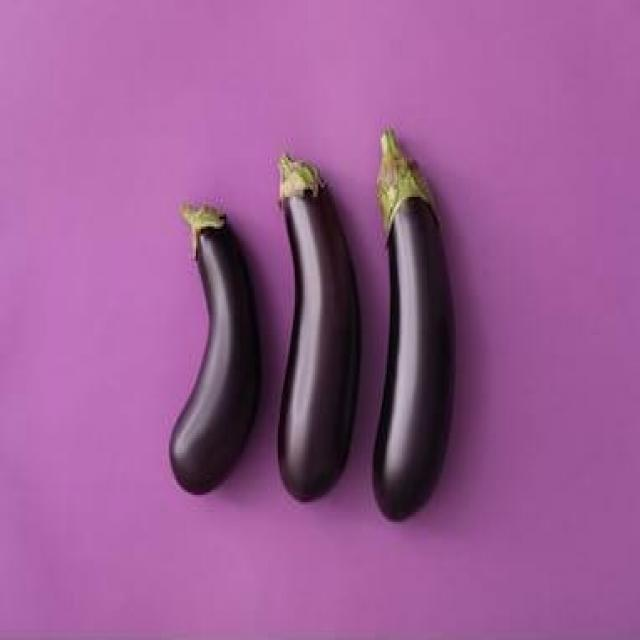eggplant: (372, 115, 458, 528), (266, 149, 364, 509), (166, 195, 260, 494)
